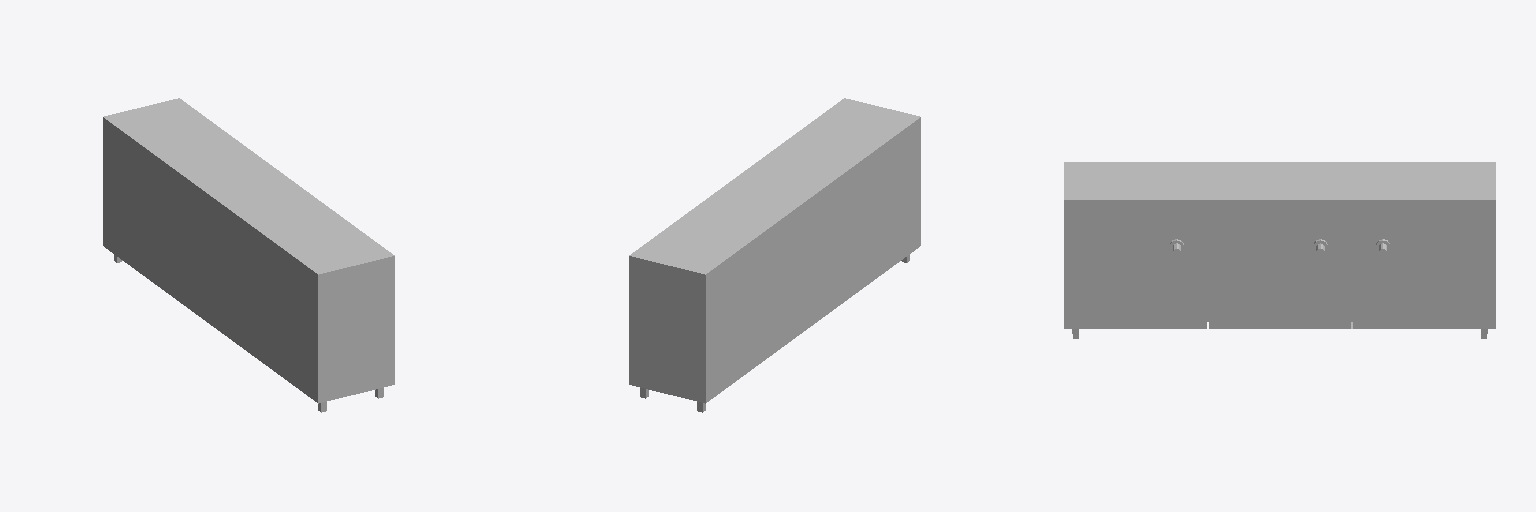
File: Gabinete.obj
The picture shows the model from 3 angles: view 1: azimuth 30°, elevation 25°; view 2: azimuth 150°, elevation 25°; view 3: azimuth 270°, elevation 25°; orthographic projection.
Parts seen in each view (by area): view 1: Cubo.002_Cubo.003; view 2: Cubo.002_Cubo.003; view 3: Cubo.002_Cubo.003.
Part boxes in pixels (left/top/right/bottom): Cubo.002_Cubo.003: left=103, top=98, right=394, bottom=412; Cubo.002_Cubo.003: left=629, top=98, right=920, bottom=412; Cubo.002_Cubo.003: left=1064, top=162, right=1495, bottom=338.
Bounding box in the file's own units: 0.6892 × 1.03 × 2.82.